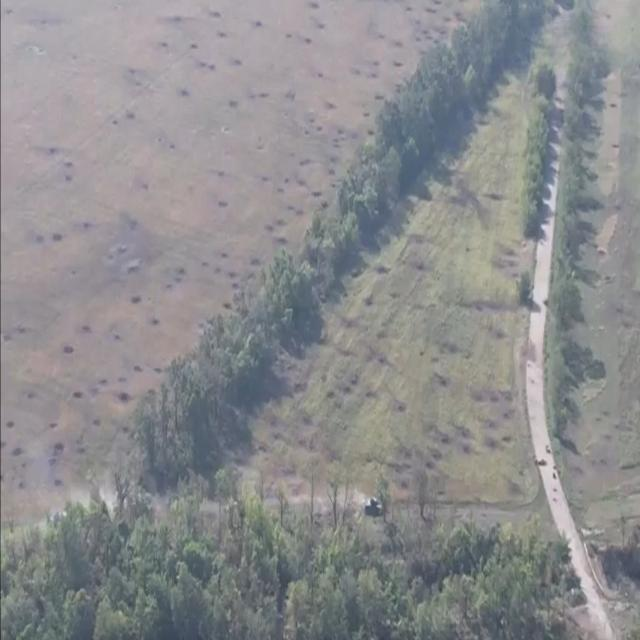AIFV: (50, 510, 71, 528)
MBT: (365, 495, 387, 520)
